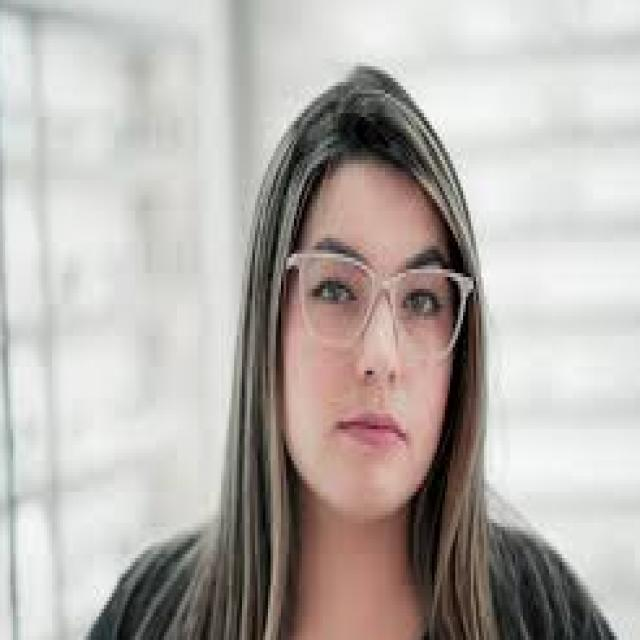Glasses: (282, 244, 476, 365)
